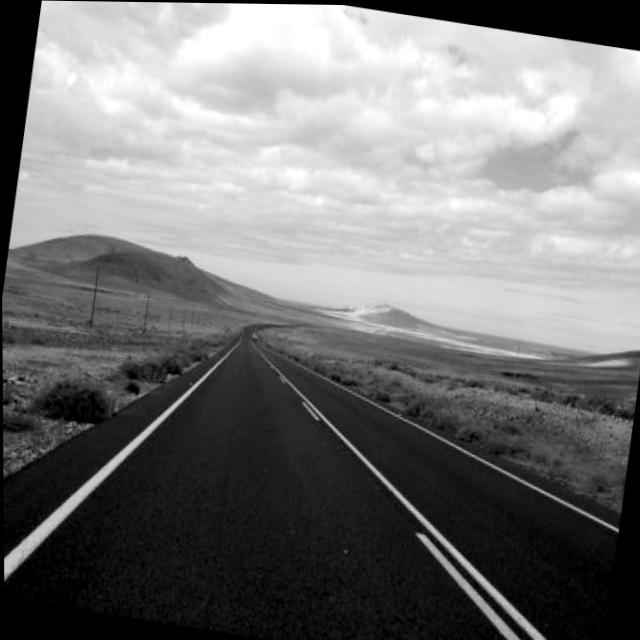cleat: (2, 177, 600, 640)
